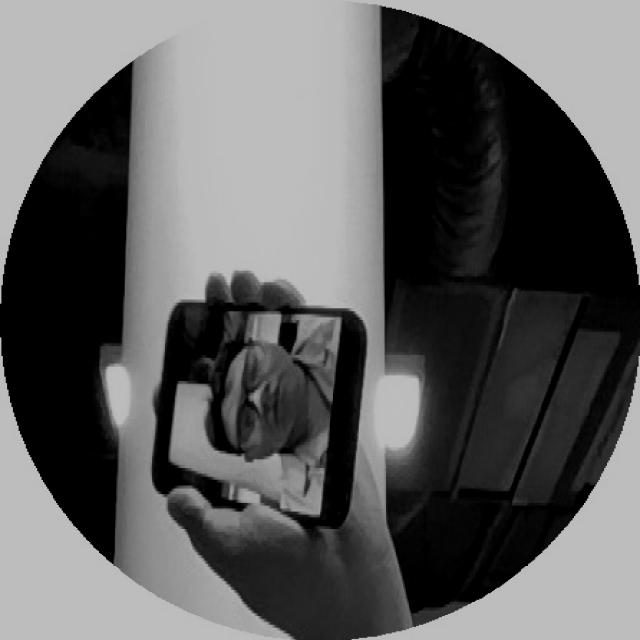fake: (118, 272, 404, 548), (138, 292, 380, 533)
